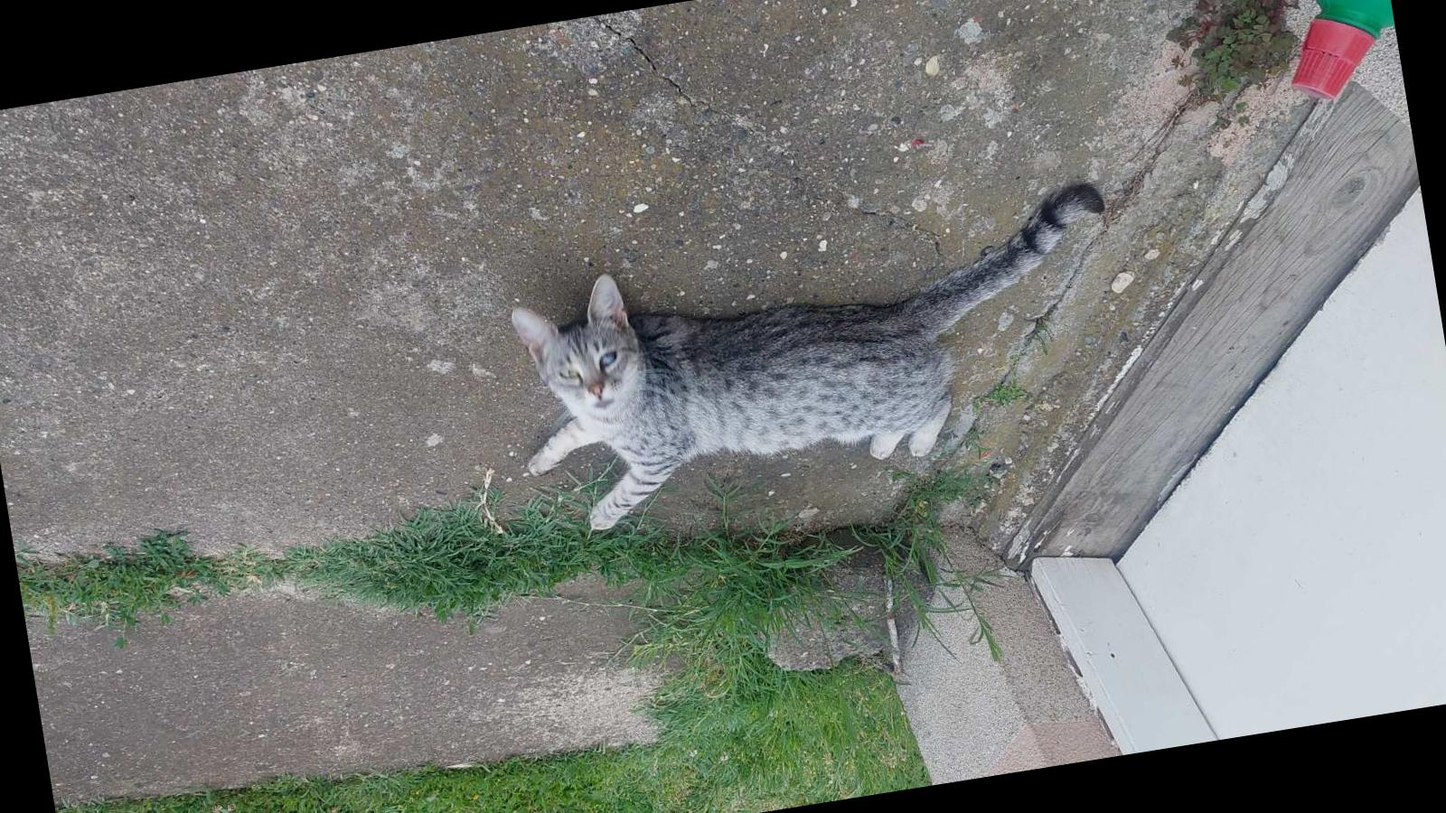macka: (495, 178, 1141, 542)
